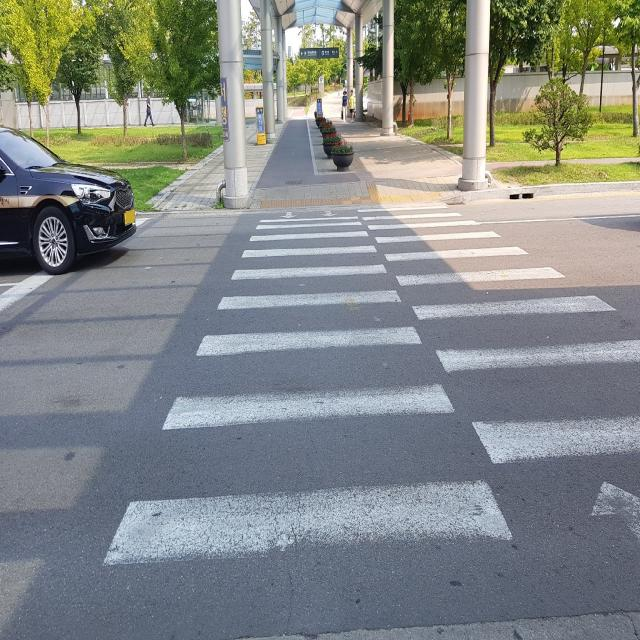횡단보도: (103, 204, 640, 564)
